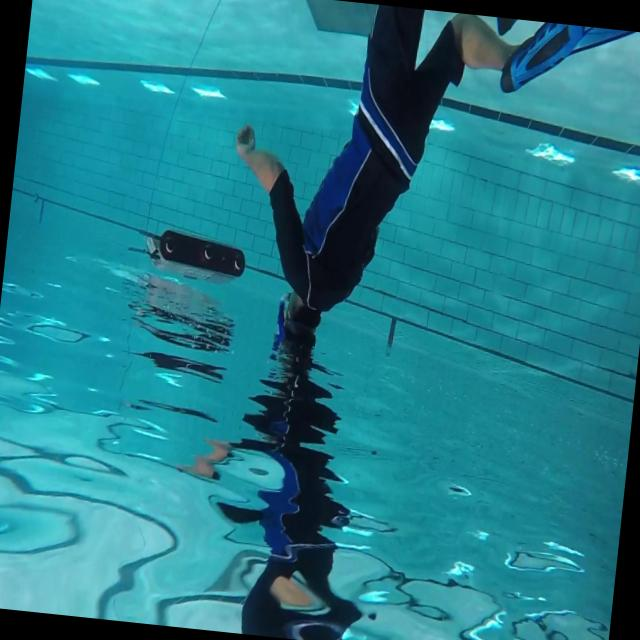human: (212, 0, 529, 385)
